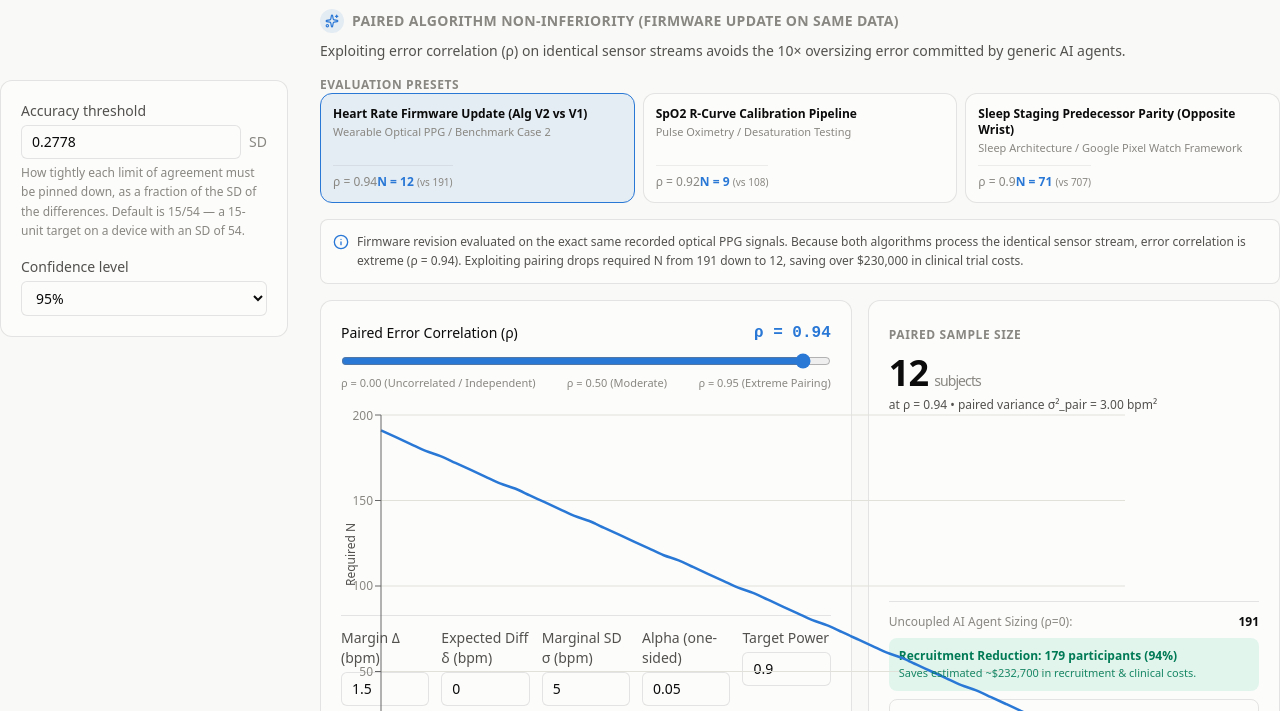
AgreementPage › updates sample size when the correlation slider changes
The image size is (1280, 711).
(page scrolled)
Note: Change rho to 0.00 (uncorrelated)
Set the slider labelled "Paired Error Correlation (ρ)" to "0" at (349, 361), box [341,353,831,369]
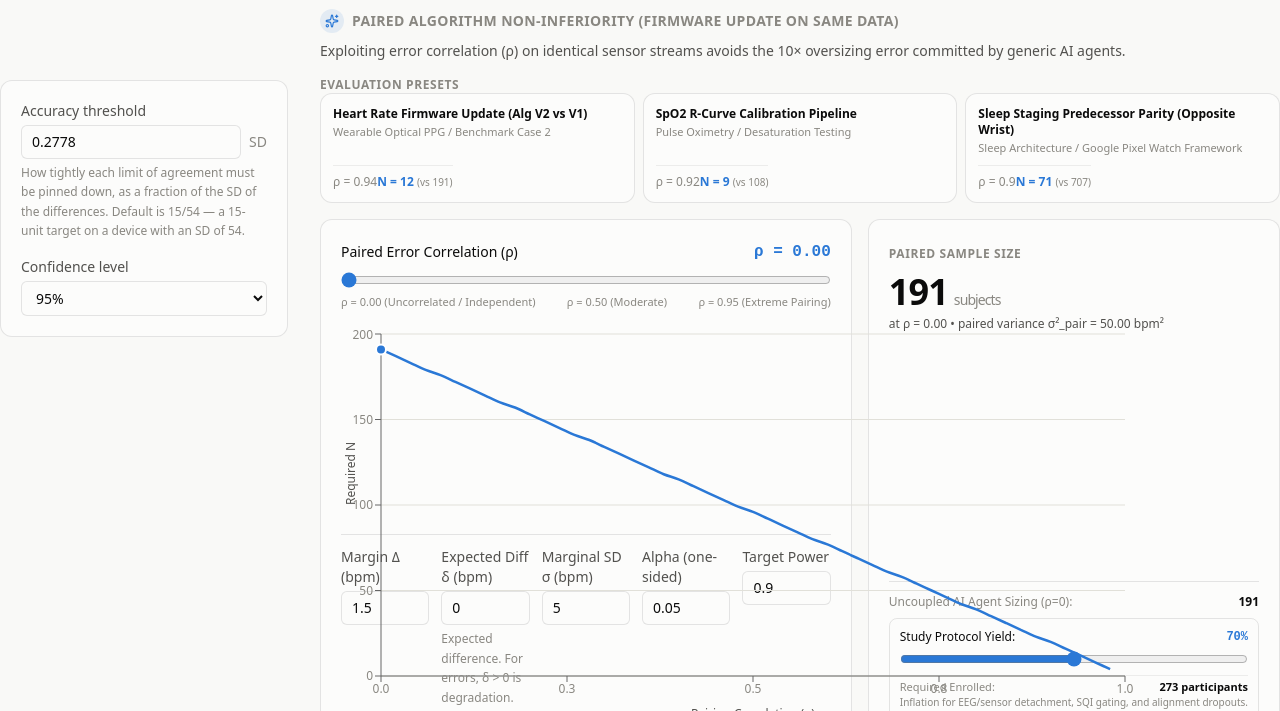
Expected: the text "191" is shown, [889,267,948,316]
